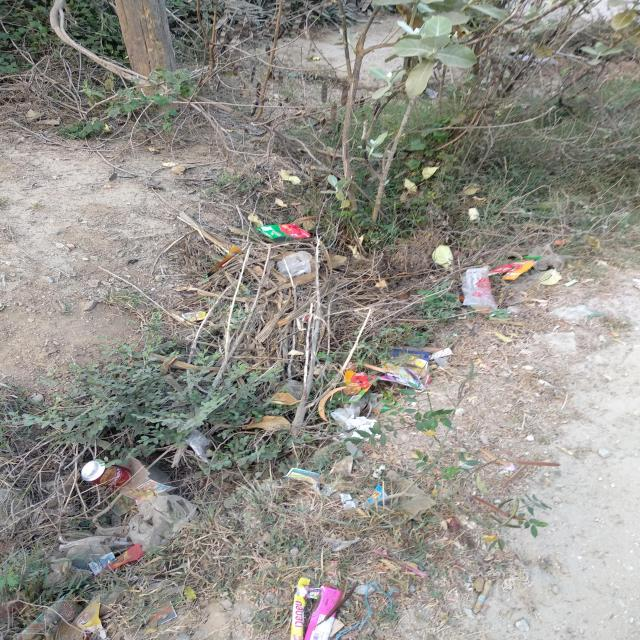litter: (43, 526, 132, 593), (129, 494, 199, 551), (12, 593, 84, 640), (335, 582, 393, 639), (332, 392, 385, 431), (379, 350, 429, 391), (305, 585, 341, 640), (122, 476, 179, 507), (96, 543, 145, 578), (461, 268, 499, 313), (71, 596, 107, 640), (80, 460, 134, 489), (333, 371, 378, 403), (489, 255, 542, 281), (289, 578, 311, 640), (335, 416, 383, 443), (204, 245, 243, 278), (256, 224, 311, 243), (278, 251, 313, 279), (281, 468, 320, 492), (185, 429, 211, 464), (473, 577, 494, 612), (363, 483, 390, 510), (148, 601, 177, 625), (87, 552, 116, 575), (324, 537, 360, 551), (339, 493, 358, 511), (429, 347, 454, 360), (181, 311, 205, 321), (309, 588, 321, 598)
